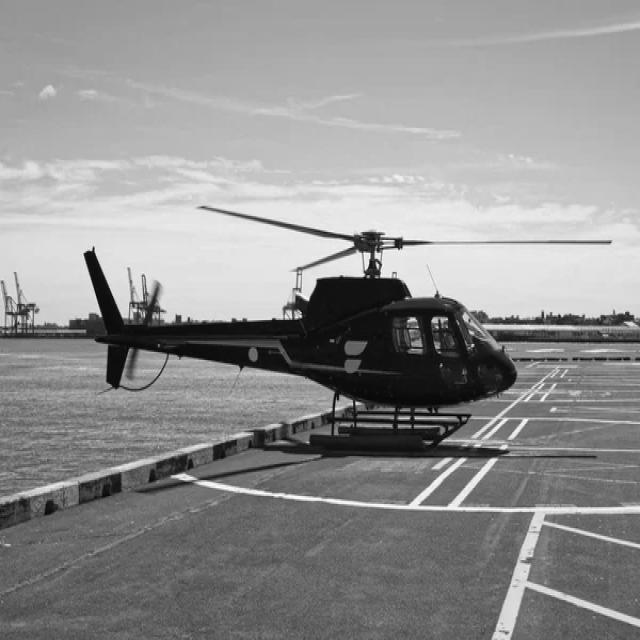Helicopter: (84, 206, 611, 449)
